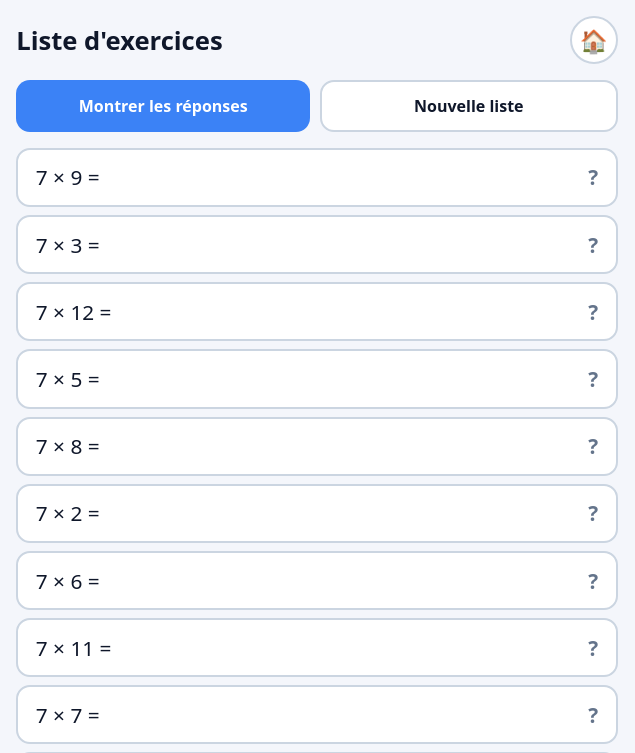
Scenario: ExerciseListScreen › the global button reveals every answer then hides them again
Click the button "Montrer les réponses": (163, 106) [16, 80, 310, 132]
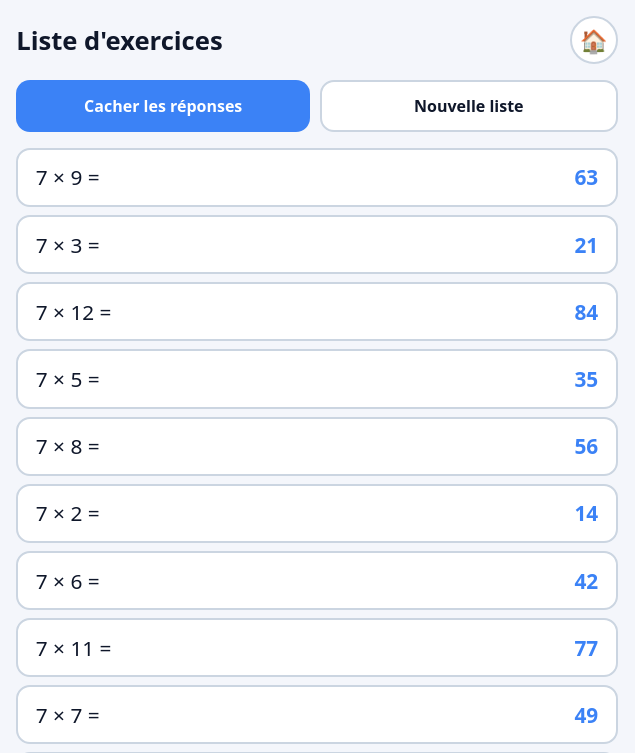
Expected: the text "56" is shown, [574, 432, 598, 460]
Click the button "Cacher les réponses": (163, 106) [16, 80, 310, 132]
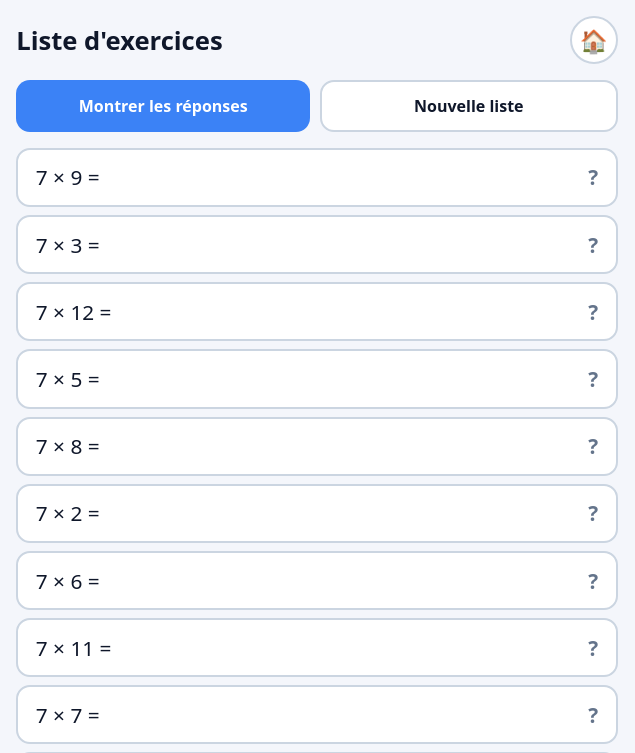
Expected: the button "56" is gone
